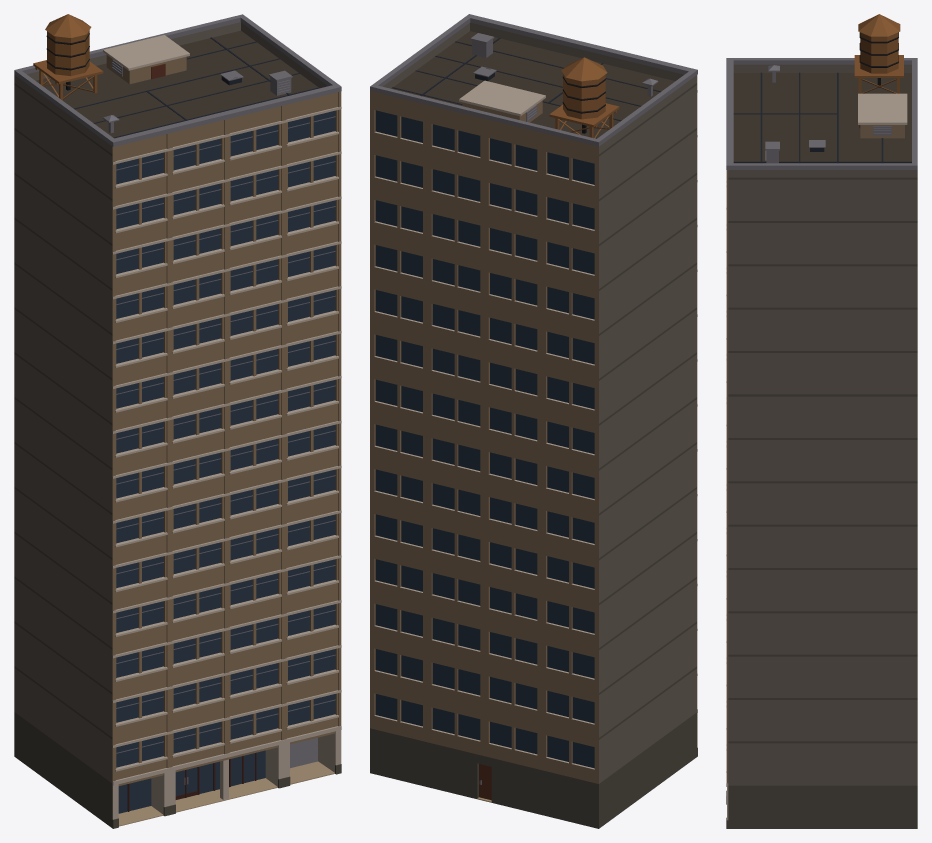
The model's file is postwar-apartment-slab-cee5f9.glb.
3 views of the same model, side by side, from view 1: azimuth 30°, elevation 25°; view 2: azimuth 150°, elevation 25°; view 3: azimuth 270°, elevation 25° (orthographic). The views are drawn at different scales.
Parts seen in each view (by area): view 1: slab, water-tank-timber; view 2: slab, water-tank-timber; view 3: slab, water-tank-timber.
Part boxes in pixels (box(x1,y1,x2,y2)): slab: box(14, 14, 341, 828); water-tank-timber: box(33, 14, 103, 100); slab: box(370, 14, 697, 828); water-tank-timber: box(549, 57, 619, 138); slab: box(726, 58, 917, 828); water-tank-timber: box(854, 14, 903, 93).
Bounding box in the file's own units: 16 × 50.06 × 12.
